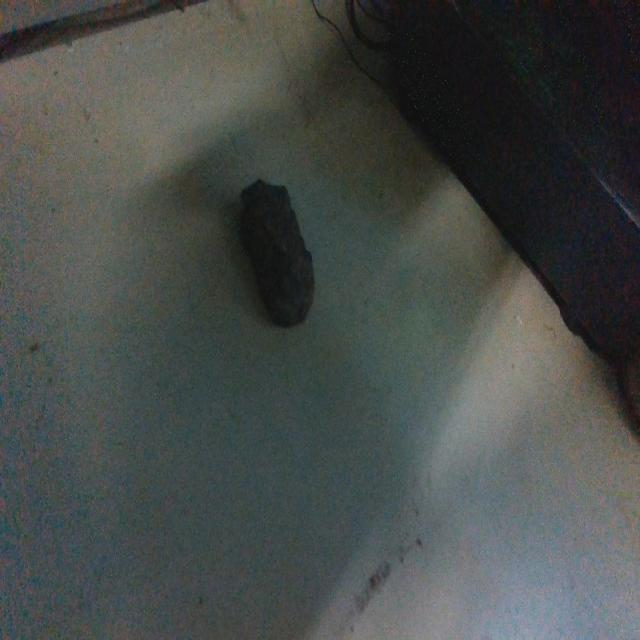stone: (238, 175, 315, 327)
